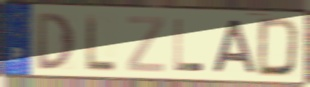A: (210, 18, 258, 75)
D: (256, 16, 302, 79), (35, 11, 77, 72)
L: (84, 12, 117, 73), (173, 17, 206, 74)
Z: (125, 15, 166, 75)
